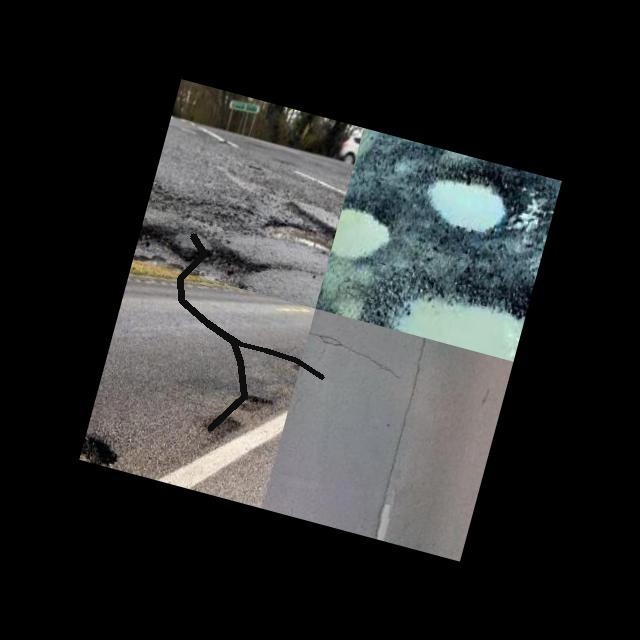road_crack: (170, 226, 254, 438)
